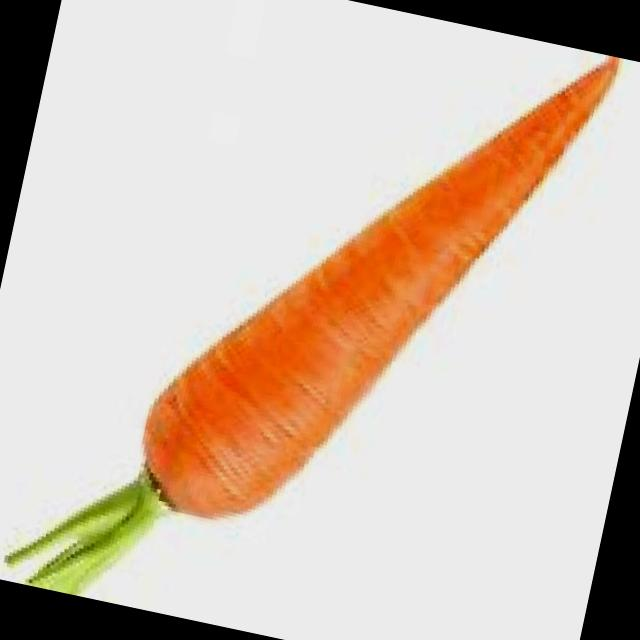carrot: (114, 0, 627, 594)
